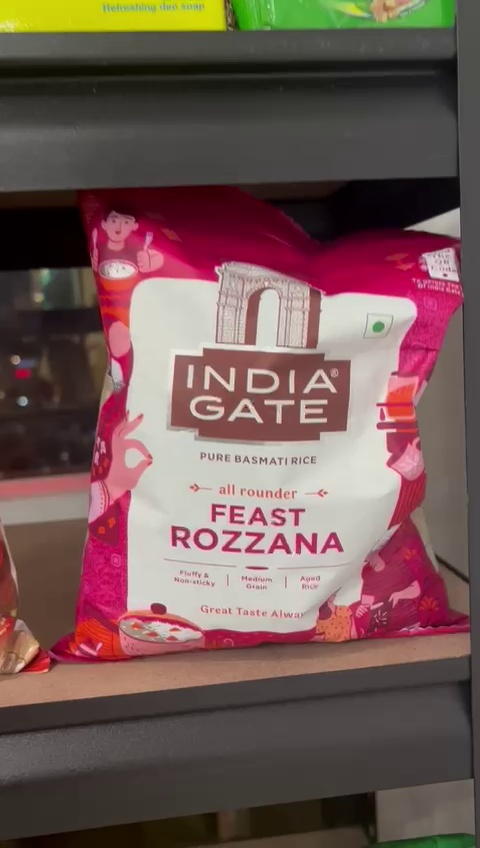India Gate Feast Rozzana: (85, 196, 470, 640)
